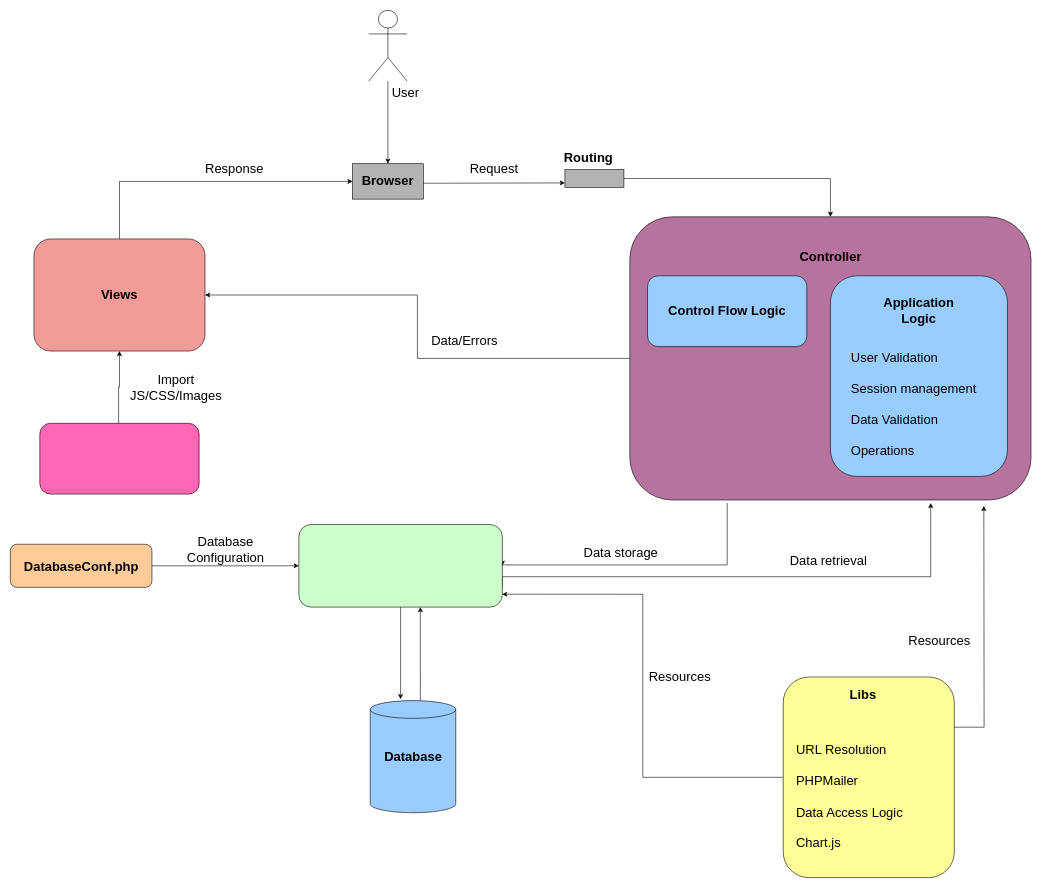
This 1041x888 diagram has some shape labels left out. The box of each missing label's shape, as (x1, y1, x2, y2) in pixels:
Model: (298, 524, 502, 607)
Public: (39, 423, 199, 494)
